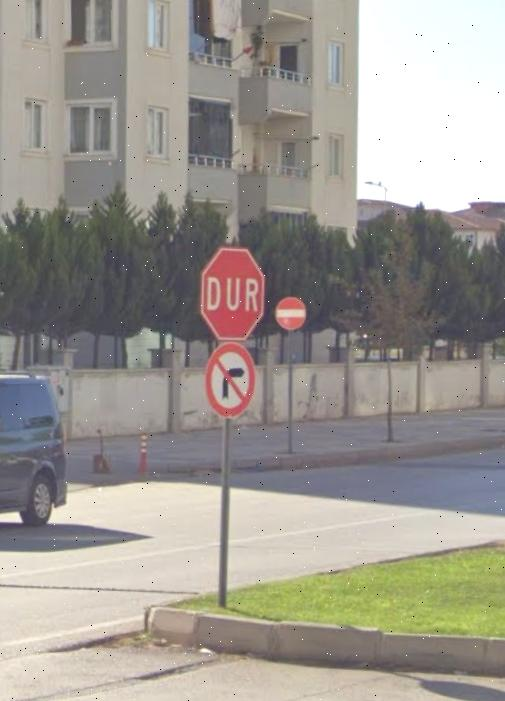stop: (200, 241, 263, 336)
